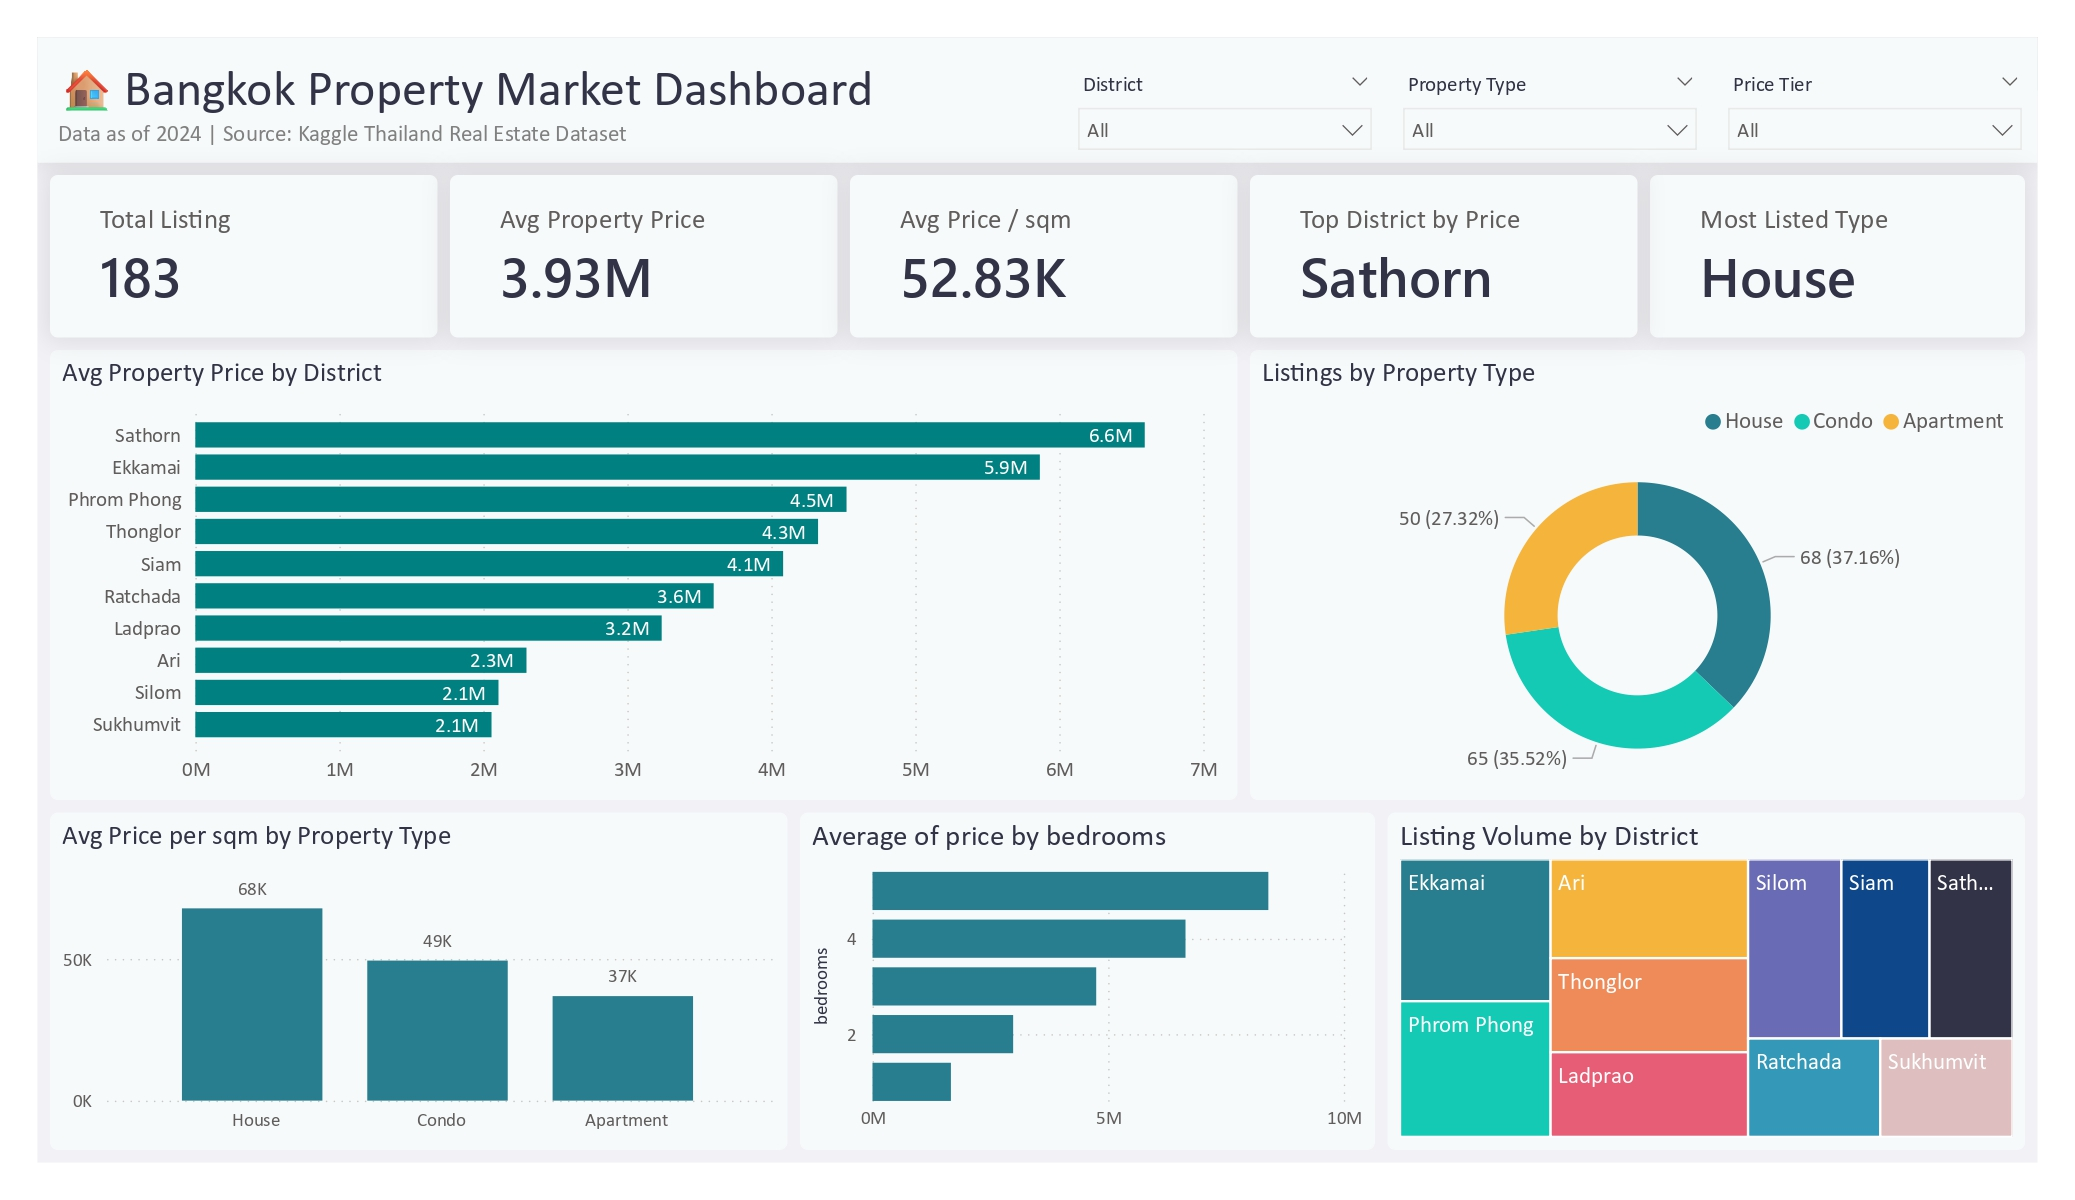

The page's visual inventory and layout, read from the dashboard file:
{"tool":"powerbi","page":{"name":"Overview","canvas":[1280,720],"ordinal":0},"visuals":[{"type":"shape","box":[0,0,1280,80],"z":0},{"type":"barChart","title":"Avg Property Price by District","fields":{"Category":["public property_listings.district"],"Y":["Avg(public property_listings.price)"]},"box":[8,200,760,288],"z":1000},{"type":"clusteredColumnChart","title":"Avg Price per sqm by Property Type","fields":{"Category":["public property_listings.property_type"],"Y":["Avg(public property_listings.price_per_sqm)"]},"box":[8,496,472,216],"z":2000},{"type":"donutChart","title":"Listings by Property Type","fields":{"Category":["public property_listings.property_type"],"Y":["CountNonNull(public property_listings.property_type)"]},"box":[776,200,496,288],"z":3000},{"type":"slicer","fields":{"Values":["public property_listings.price_tier"]},"box":[1072,16,208,64],"z":4000},{"type":"textbox","box":[8,8,592,72],"z":5000},{"type":"slicer","fields":{"Values":["public property_listings.property_type"]},"box":[864,16,208,64],"z":6000},{"type":"slicer","fields":{"Values":["public property_listings.district"]},"box":[656,16,208,64],"z":7000},{"type":"cardVisual","title":"Daily Cost Per Contract","fields":{"Data":["CountNonNull(public property_listings.property_type)"]},"box":[8,88,248,104],"z":8000},{"type":"cardVisual","title":"Daily Cost Per Contract","fields":{"Data":["Avg(public property_listings.price)"]},"box":[264,88,248,104],"z":9000},{"type":"cardVisual","title":"Daily Cost Per Contract","fields":{"Data":["Avg(public property_listings.price_per_sqm)"]},"box":[520,88,248,104],"z":10000},{"type":"cardVisual","title":"Daily Cost Per Contract","fields":{"Data":["_Measures.Most Listed Type"]},"box":[1032,88,240,104],"z":11000},{"type":"cardVisual","title":"Daily Cost Per Contract","fields":{"Data":["_Measures.Top District by Price"]},"box":[776,88,248,104],"z":12000},{"type":"clusteredBarChart","fields":{"Category":["public property_listings.bedrooms"],"Y":["Avg(public property_listings.price)"]},"box":[488,496,368,216],"z":13000},{"type":"treemap","title":"Listing Volume by District","fields":{"Group":["public property_listings.district"],"Values":["CountNonNull(public property_listings.district)"]},"box":[864,496,408,216],"z":14000}]}

Visuals, with their boxes on the page's 1280x720 design canvas (x1, y1, x2, y2). These are canvas units, not pixel positions in the 2075x1200 screenshot, which may show the page scaled, cropped or inside an application window:
shape: crop(0, 0, 1280, 80)
"Avg Property Price by District" barChart: crop(8, 200, 768, 488)
"Avg Price per sqm by Property Type" clusteredColumnChart: crop(8, 496, 480, 712)
"Listings by Property Type" donutChart: crop(776, 200, 1272, 488)
slicer - public property_listings.price_tier: crop(1072, 16, 1280, 80)
textbox: crop(8, 8, 600, 80)
slicer - public property_listings.property_type: crop(864, 16, 1072, 80)
slicer - public property_listings.district: crop(656, 16, 864, 80)
"Daily Cost Per Contract" cardVisual: crop(8, 88, 256, 192)
"Daily Cost Per Contract" cardVisual: crop(264, 88, 512, 192)
"Daily Cost Per Contract" cardVisual: crop(520, 88, 768, 192)
"Daily Cost Per Contract" cardVisual: crop(1032, 88, 1272, 192)
"Daily Cost Per Contract" cardVisual: crop(776, 88, 1024, 192)
clusteredBarChart - public property_listings.bedrooms x Avg(public property_listings.price): crop(488, 496, 856, 712)
"Listing Volume by District" treemap: crop(864, 496, 1272, 712)
